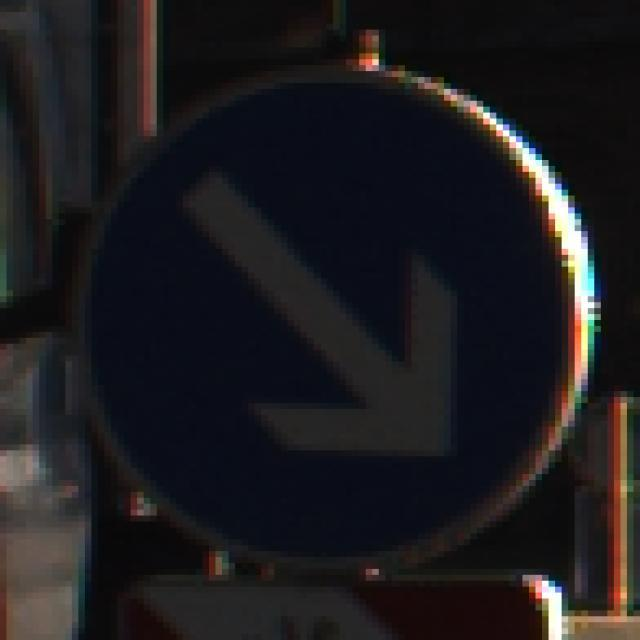compulsary keep right: (72, 67, 598, 574)
